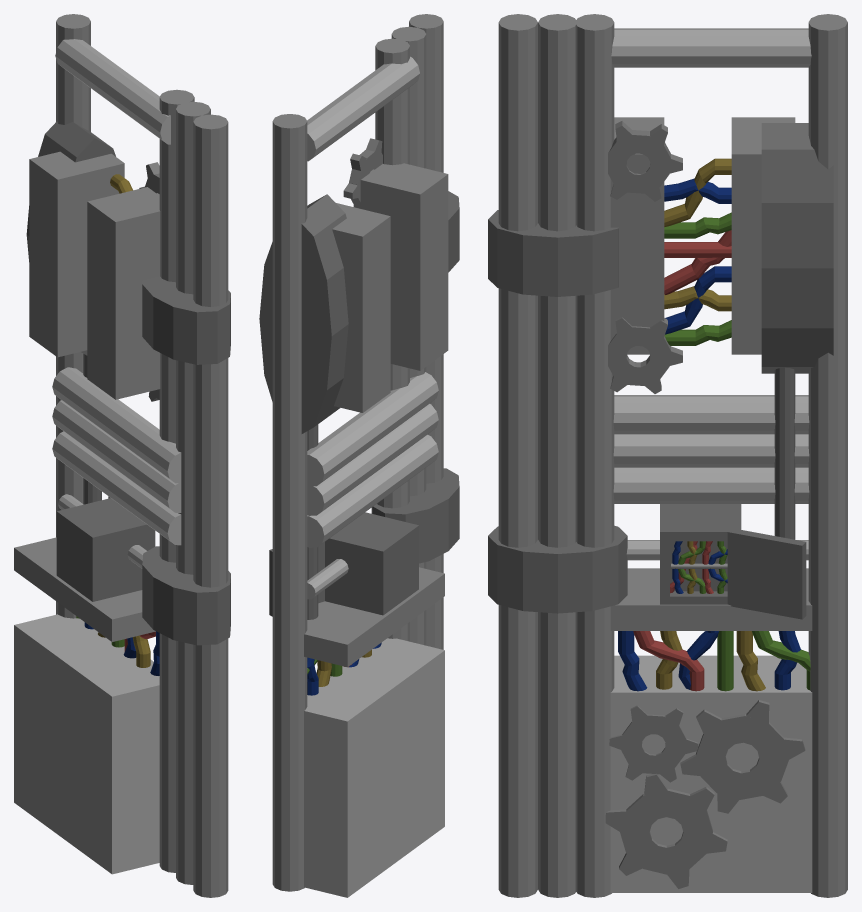
Rendered from Electronics.fbx.
3 views of the same model, side by side, from view 1: azimuth 30°, elevation 25°; view 2: azimuth 150°, elevation 25°; view 3: azimuth 270°, elevation 25° (orthographic). The views are drawn at different scales.
Parts seen in each view (by area): view 1: Cube.001; view 2: Cube.001; view 3: Cube.001.
Boxes of the visible parts, x1,y1,x2,y2 form: Cube.001: (14,14,230,897); Cube.001: (259,14,459,897); Cube.001: (488,14,847,897).
Size of the model in its own units: 49.76 by 402 by 151.
